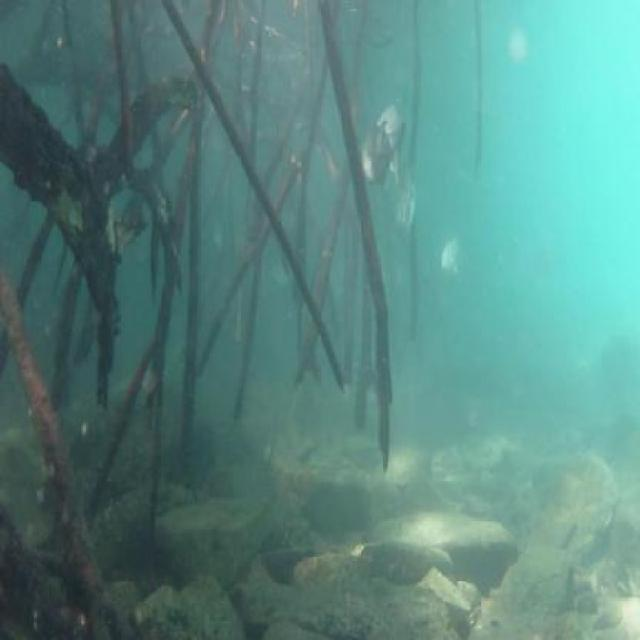Caranx_sexfasciatus_juvenile: (364, 93, 416, 178), (358, 104, 405, 188), (394, 173, 428, 244)
